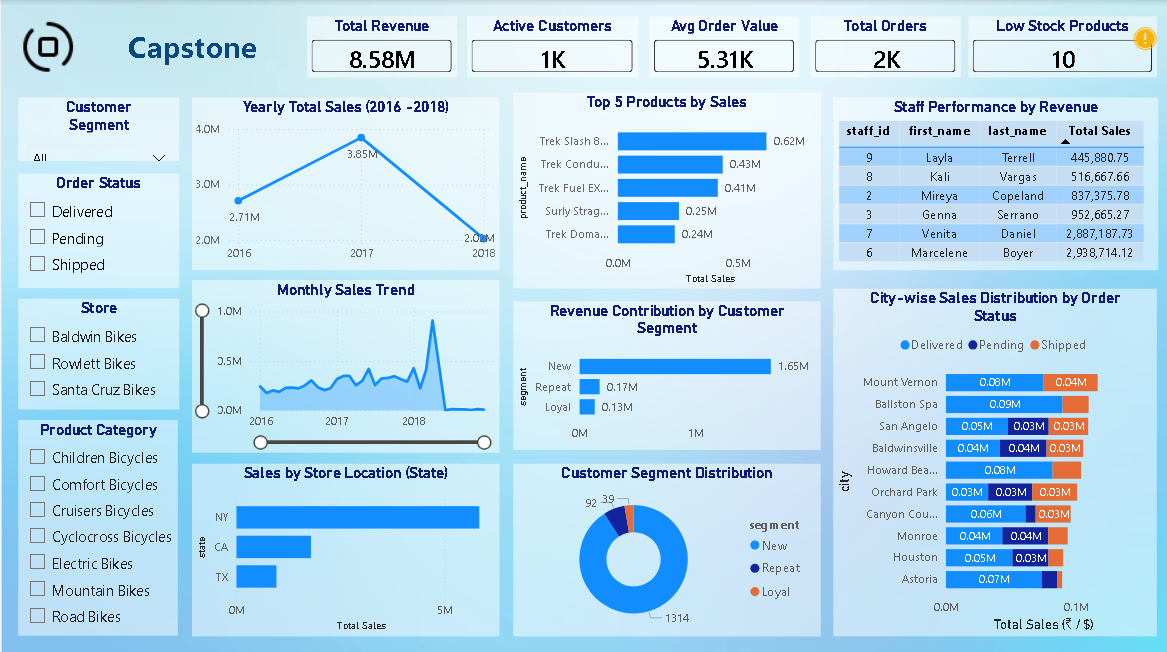

The page's visual inventory and layout, read from the dashboard file:
{"tool":"powerbi","page":{"name":"Page 1","canvas":[1280,720],"ordinal":0},"visuals":[{"type":"textbox","box":[83.7,24.7,251.1,54.9],"z":0},{"type":"cardVisual","title":"Low Stock Products","fields":{"Data":["capstone stocks.low stock products"]},"box":[1060.7,17.8,207.2,67.2],"z":1000},{"type":"cardVisual","title":"Total Revenue","fields":{"Data":["capstone order_items.total revenue"]},"box":[334.8,17.8,164.7,67.2],"z":2000},{"type":"cardVisual","title":"Active Customers","fields":{"Data":["capstone orders.active customers"]},"box":[510.5,17.8,188,67.2],"z":3000},{"type":"cardVisual","title":"Avg Order Value","fields":{"Data":["capstone orders.avg order value"]},"box":[710.8,17.8,164.7,67.2],"z":4000},{"type":"cardVisual","title":"Total Orders","fields":{"Data":["capstone orders.total orders"]},"box":[887.8,17.8,164.7,67.2],"z":5000},{"type":"slicer","title":"Order Status","fields":{"Values":["capstone orders.order_status_[0]"]},"box":[17.6,190.2,177,125.8],"z":6000},{"type":"slicer","title":"Product Category","fields":{"Values":["capstone categories.category_name"]},"box":[17.6,460.9,175.6,237],"z":7000},{"type":"slicer","title":"Store","fields":{"Values":["capstone stores.store_name"]},"box":[17.6,327.8,177,121.4],"z":8000},{"type":"lineChart","title":"Yearly Total Sales (2016 -2018)","fields":{"Y":["capstone order_items.Total Sales"],"Category":["capstone orders.order_date.Variation.Date Hierarchy.Year","capstone orders.order_date.Variation.Date Hierarchy.Quarter","capstone orders.order_date.Variation.Date Hierarchy.Month","capstone orders.order_date.Variation.Date Hierarchy.Day"]},"box":[208.6,107,337.6,189.4],"z":9000},{"type":"areaChart","title":"Monthly Sales Trend","fields":{"Category":["capstone orders.order_date.Variation.Date Hierarchy.Year","capstone orders.order_date.Variation.Date Hierarchy.Month"],"Y":["capstone order_items.Total Sales"]},"box":[208.6,307.4,337.6,189.4],"z":10000},{"type":"clusteredBarChart","title":"Top 5 Products by Sales","fields":{"Category":["capstone products.product_name"],"Y":["capstone order_items.Total Sales"]},"box":[561.2,101.5,337.6,215.4],"z":11000},{"type":"barChart","title":"City-wise Sales Distribution by Order Status","fields":{"Category":["capstone customers.city"],"Y":["capstone order_items.Total Sales"],"Series":["capstone orders.order_status_[0]"]},"box":[912.5,317,355.4,381.5],"z":12000},{"type":"clusteredBarChart","title":"Sales by Store Location (State)","fields":{"Category":["capstone stores.state"],"Y":["capstone order_items.Total Sales"]},"box":[208.6,509.1,337.6,189.4],"z":13000},{"type":"tableEx","title":"Staff Performance by Revenue","fields":{"Values":["capstone staffs.staff_id","capstone staffs.first_name","capstone staffs.last_name","capstone order_items.Total Sales"]},"box":[912.5,107,356.8,189.4],"z":14000},{"type":"image","box":[1240,28.9,28.3,27.2],"z":15000},{"type":"donutChart","title":"Customer Segment Distribution","fields":{"Category":["capstone customer_segments.segment"],"Y":["capstone customer_segments.customer_id"]},"box":[561.2,509.1,337.6,189.4],"z":16000},{"type":"clusteredBarChart","title":"Revenue Contribution by Customer Segment","fields":{"Category":["capstone customer_segments.segment"],"Y":["capstone order_items.total revenue"]},"box":[561.2,330.7,337.6,163.3],"z":17000},{"type":"slicer","title":"Customer Segment","fields":{"Values":["capstone customer_segments.segment"]},"box":[17.8,107,177,70],"z":18000},{"type":"image","box":[17.8,17.8,65.9,67.2],"z":19000}]}

Visuals, with their boxes in screenshot pixels (x1, y1, x2, y2), scaled from the page's 1280x720 canvas onto the 1167x652 screenshot:
textbox: (76,22,305,72)
"Low Stock Products" cardVisual: (967,16,1156,77)
"Total Revenue" cardVisual: (305,16,455,77)
"Active Customers" cardVisual: (465,16,637,77)
"Avg Order Value" cardVisual: (648,16,798,77)
"Total Orders" cardVisual: (809,16,960,77)
"Order Status" slicer: (16,172,177,286)
"Product Category" slicer: (16,417,176,632)
"Store" slicer: (16,297,177,407)
"Yearly Total Sales (2016 -2018)" lineChart: (190,97,498,268)
"Monthly Sales Trend" areaChart: (190,278,498,450)
"Top 5 Products by Sales" clusteredBarChart: (512,92,819,287)
"City-wise Sales Distribution by Order Status" barChart: (832,287,1156,633)
"Sales by Store Location (State)" clusteredBarChart: (190,461,498,633)
"Staff Performance by Revenue" tableEx: (832,97,1157,268)
image: (1131,26,1156,51)
"Customer Segment Distribution" donutChart: (512,461,819,633)
"Revenue Contribution by Customer Segment" clusteredBarChart: (512,299,819,447)
"Customer Segment" slicer: (16,97,178,160)
image: (16,16,76,77)
